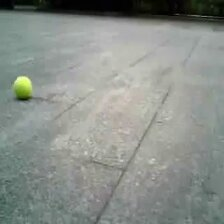tennis: (14, 77, 32, 98)
